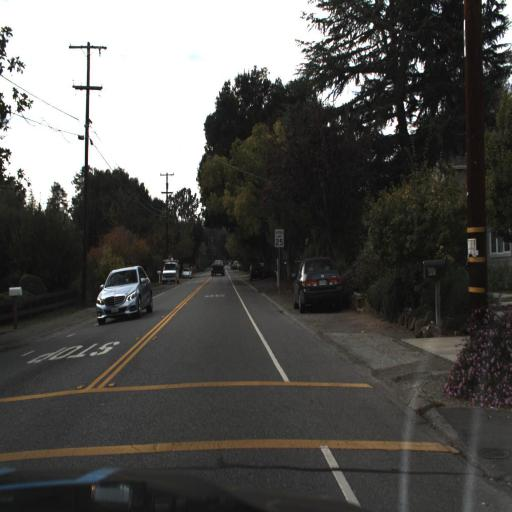car: (92, 265, 154, 326), (290, 254, 346, 313), (158, 258, 182, 288), (248, 258, 266, 284), (210, 258, 227, 280)
